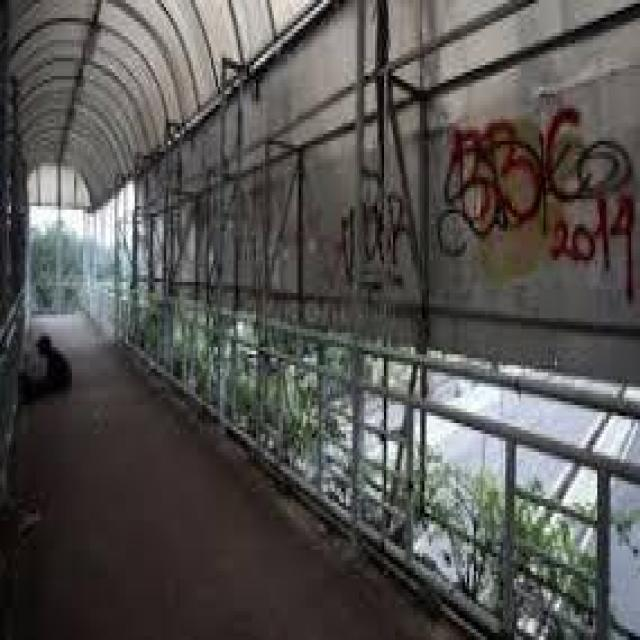nonspitting: (436, 109, 634, 302), (342, 188, 418, 279)
